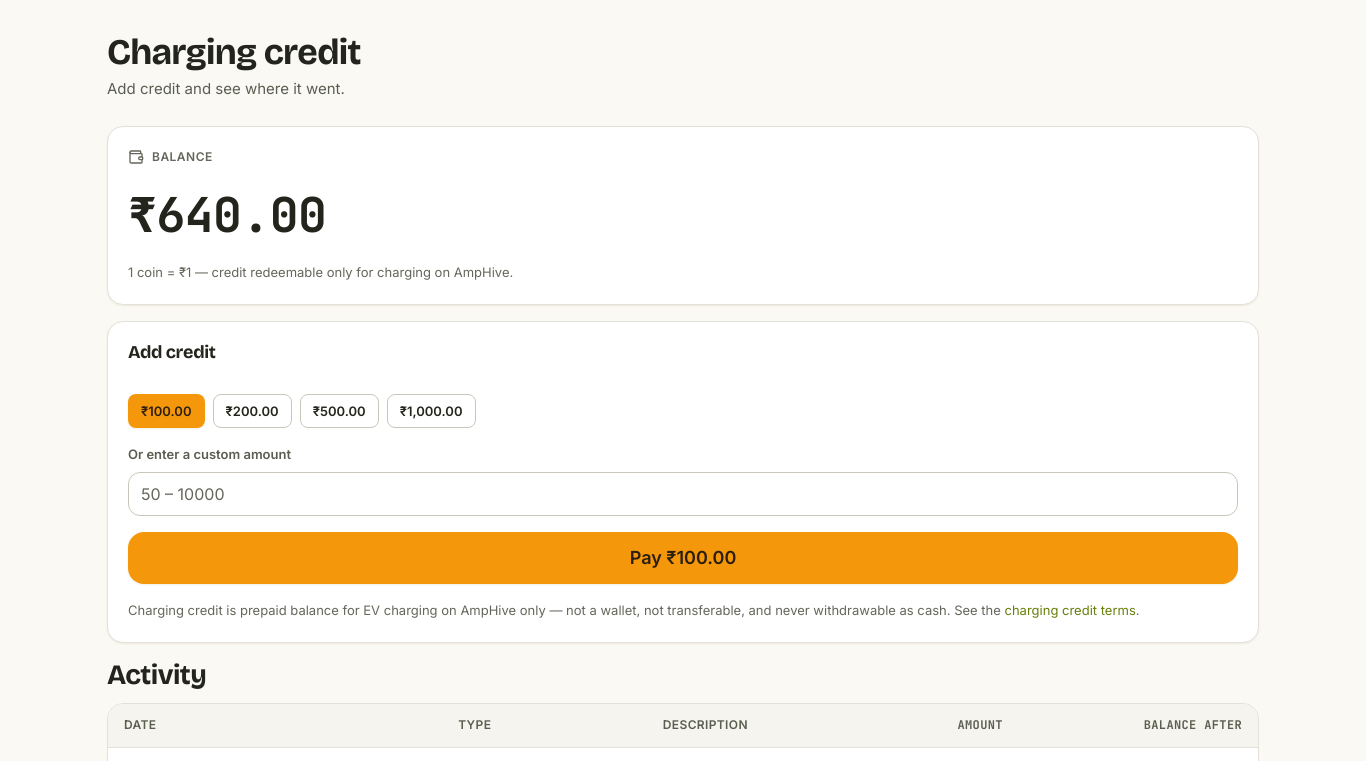
top-up amount picking › defaults to the first quick amount and switches on click
Expected: the button "Pay ₹100.00" is shown, [128,532,1238,584]
Step 1. Click the button "₹500.00" → (339, 411), box [300,394,379,428]
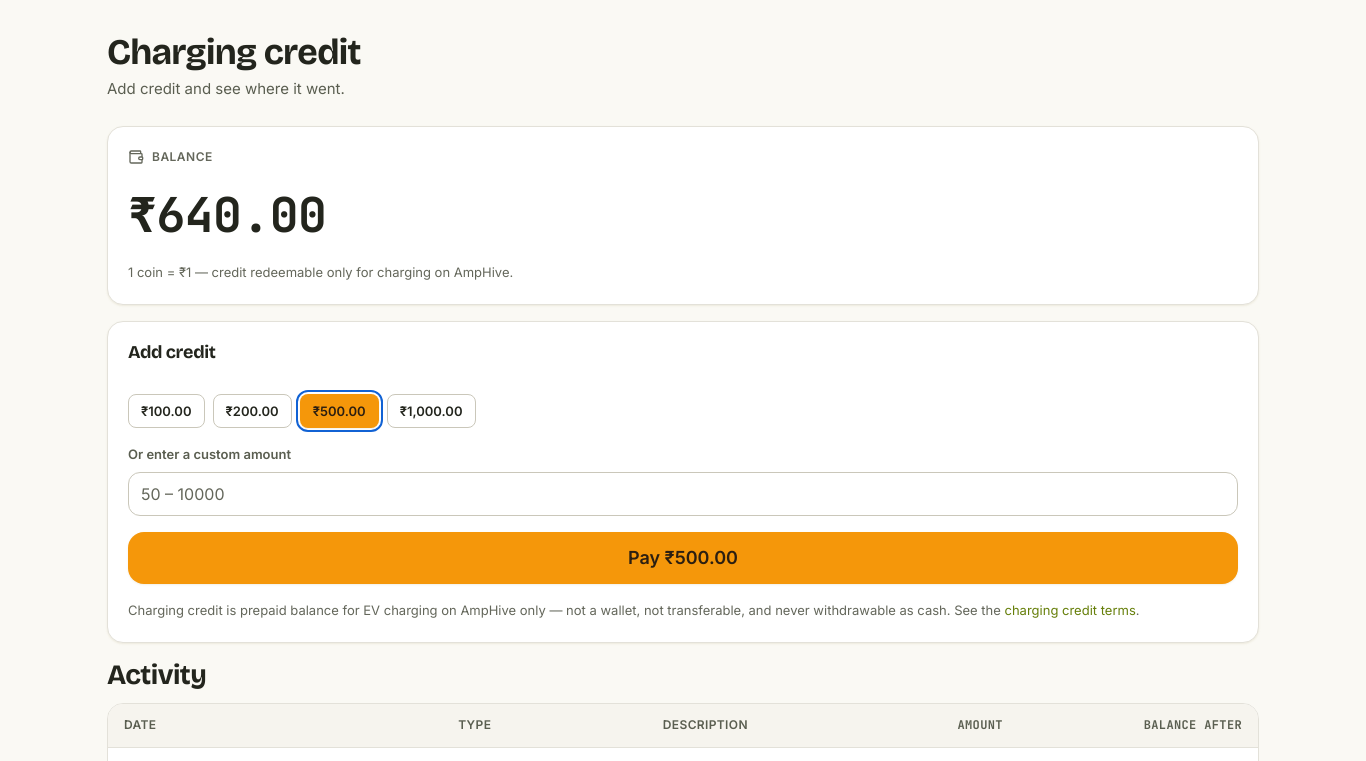
Expected: the button "Pay ₹500.00" is shown, [128,532,1238,584]
